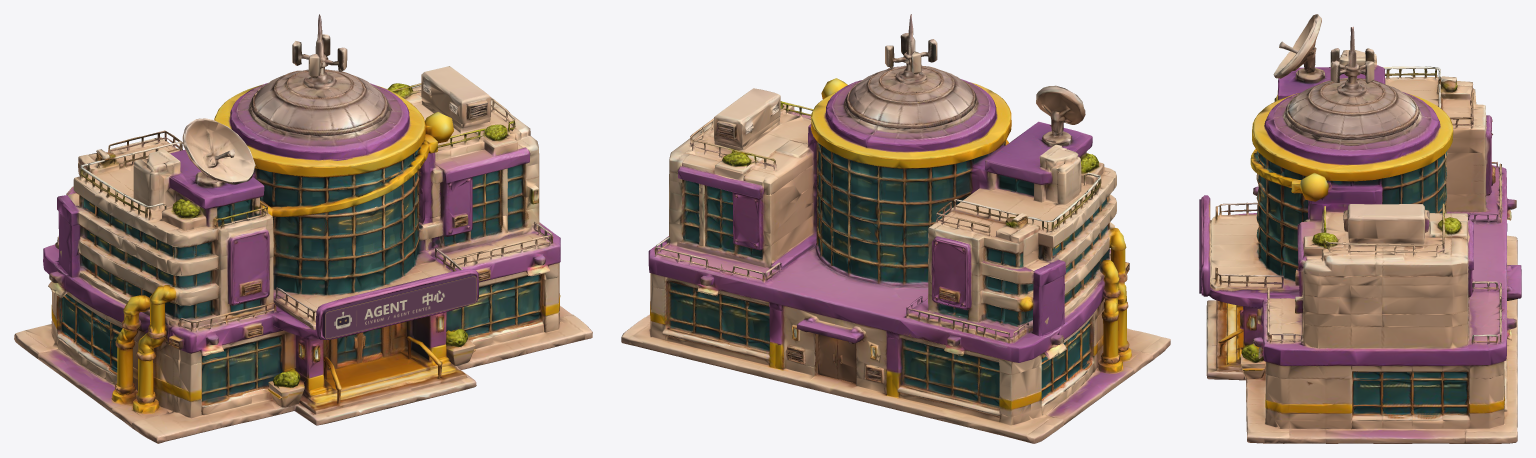
Rendered from agent-center-mobile.glb.
The picture shows the model from 3 angles, left to right: view 1: azimuth 30°, elevation 25°; view 2: azimuth 150°, elevation 25°; view 3: azimuth 270°, elevation 25°; orthographic projection. The views are drawn at different scales.
Visible parts, largest first — view 1: object 1, Agent_Center_Nameplate; view 2: object 1; view 3: object 1.
Boxes of the visible parts, bbox=[...] form: object 1: bbox=[14, 14, 592, 443]; Agent_Center_Nameplate: bbox=[322, 274, 476, 339]; object 1: bbox=[621, 14, 1170, 443]; object 1: bbox=[1201, 14, 1521, 443].
Bounding box in the file's own units: 7 × 5.09 × 4.68.
Materials: 2 (2 with a texture image).
